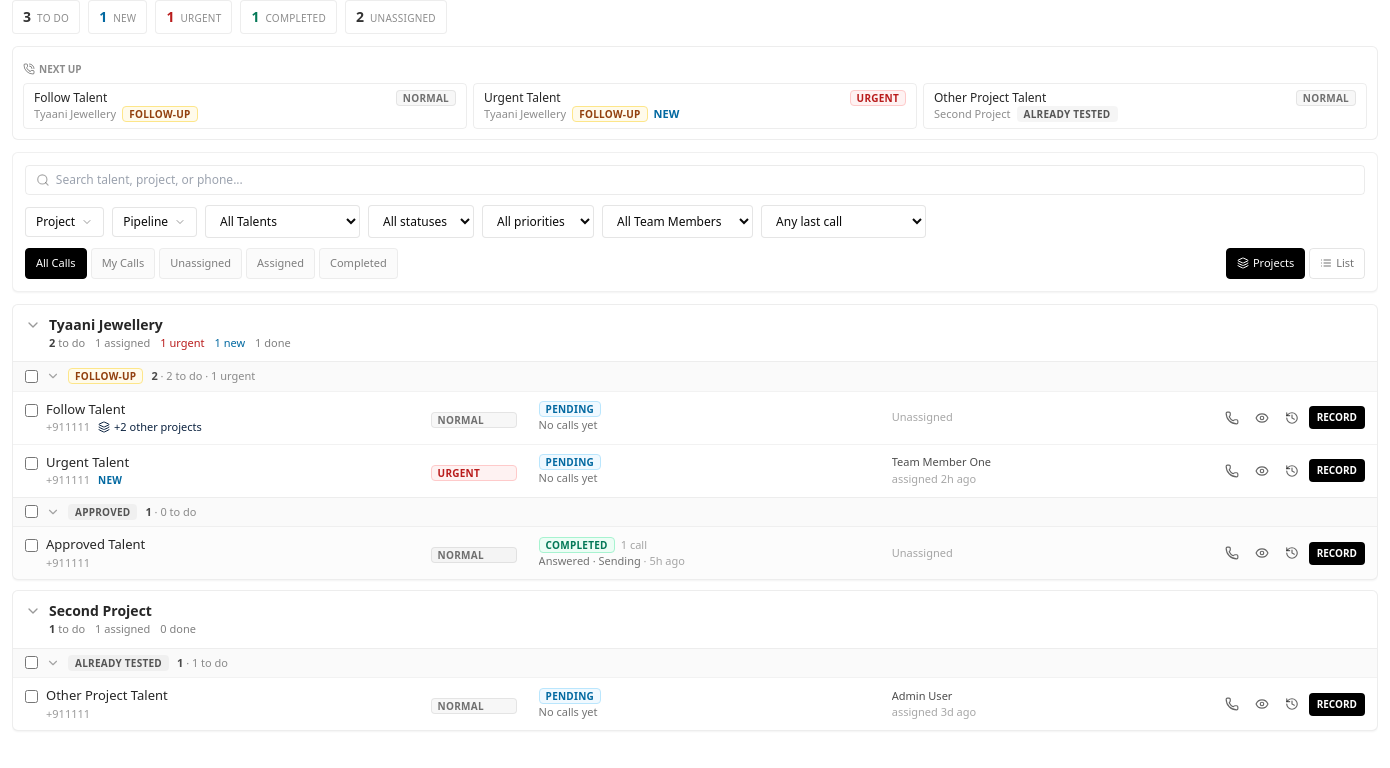
Test: Calls — filters, search, pagination and states › sends every filter to the server and combines them
Check: the element with test id "calls-grouped" is shown, box [12,304,1378,731]
Select "Urgent" in the dropdown named "Filter by priority". click: (538, 222)
box: [482,205,594,238]
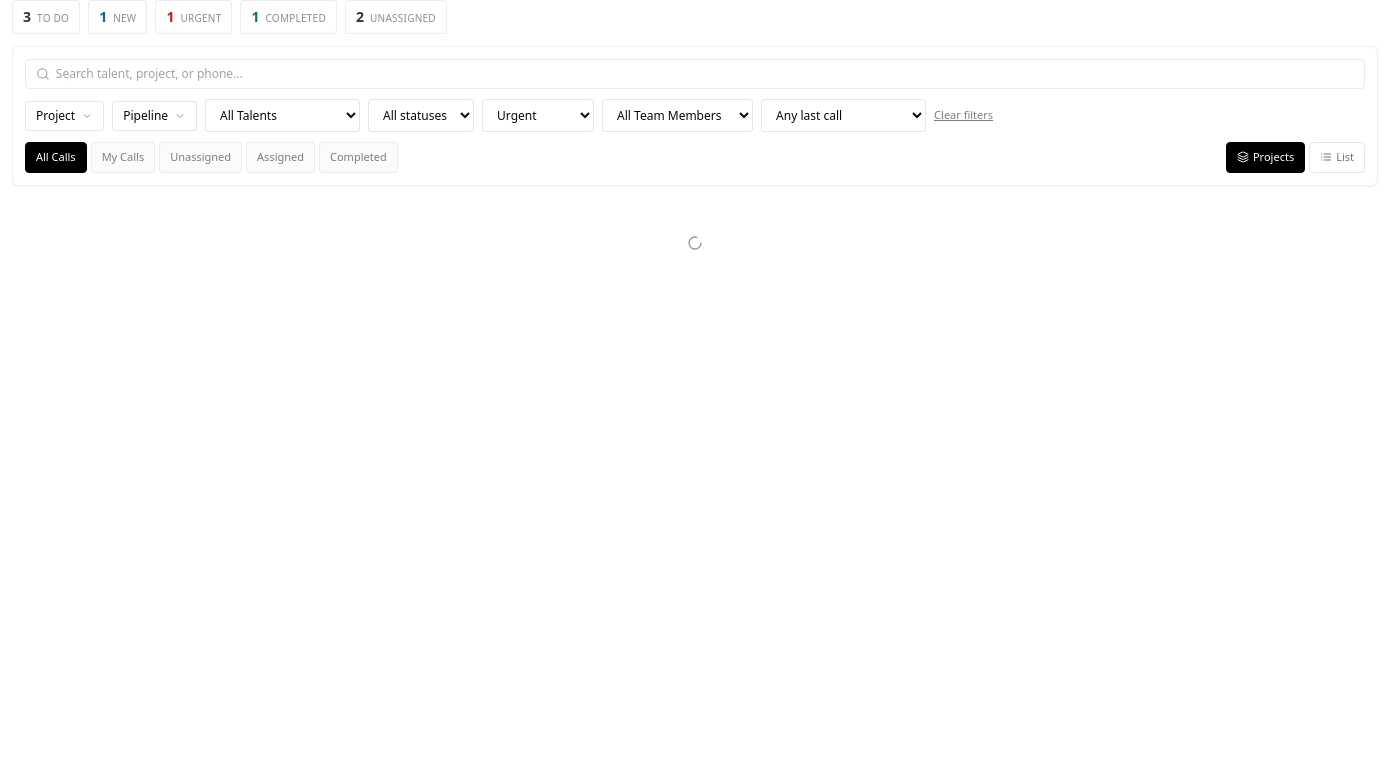
Select "Pending" in the dropdown named "Call status". click: (421, 116)
box: [368,99,474,132]
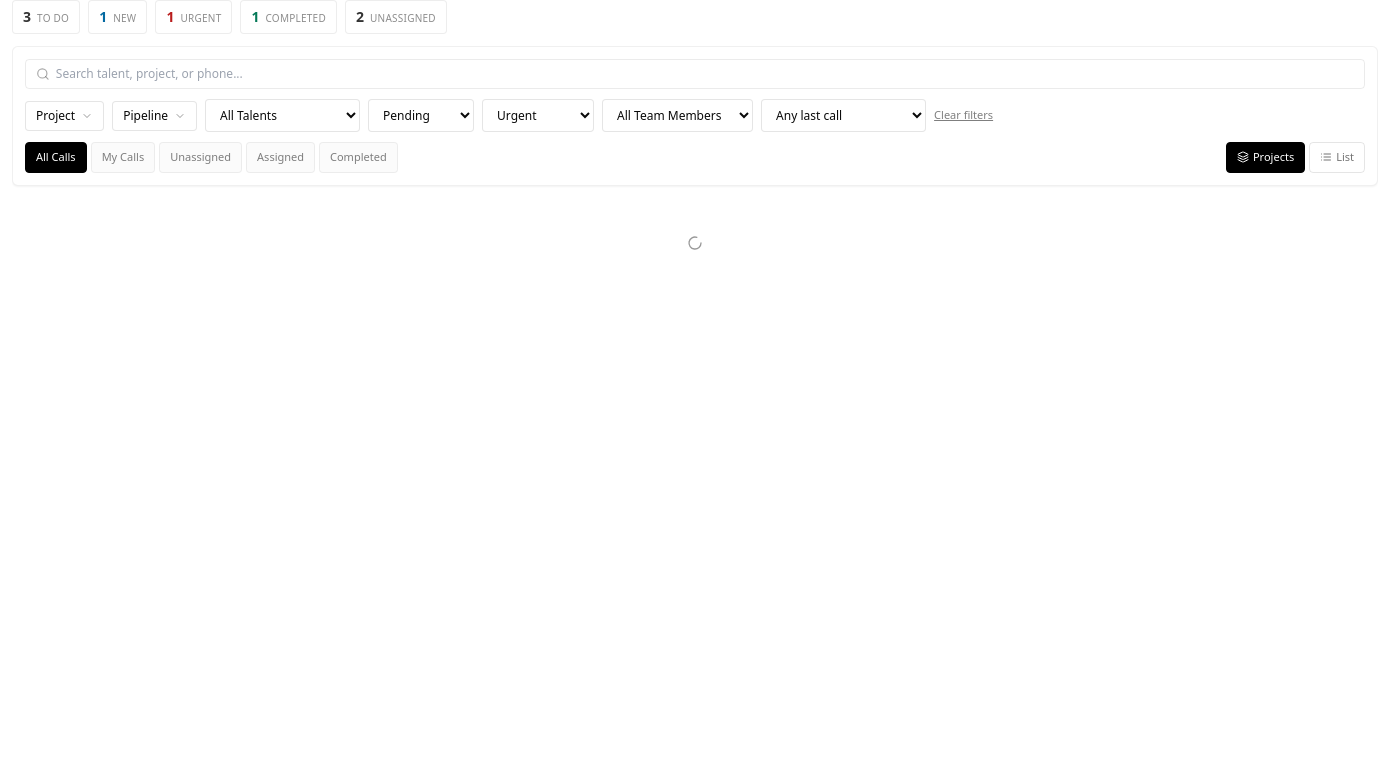
Select "Team Member One" in the dropdown named "Assigned to". click: (678, 116)
box: [602,99,753,132]
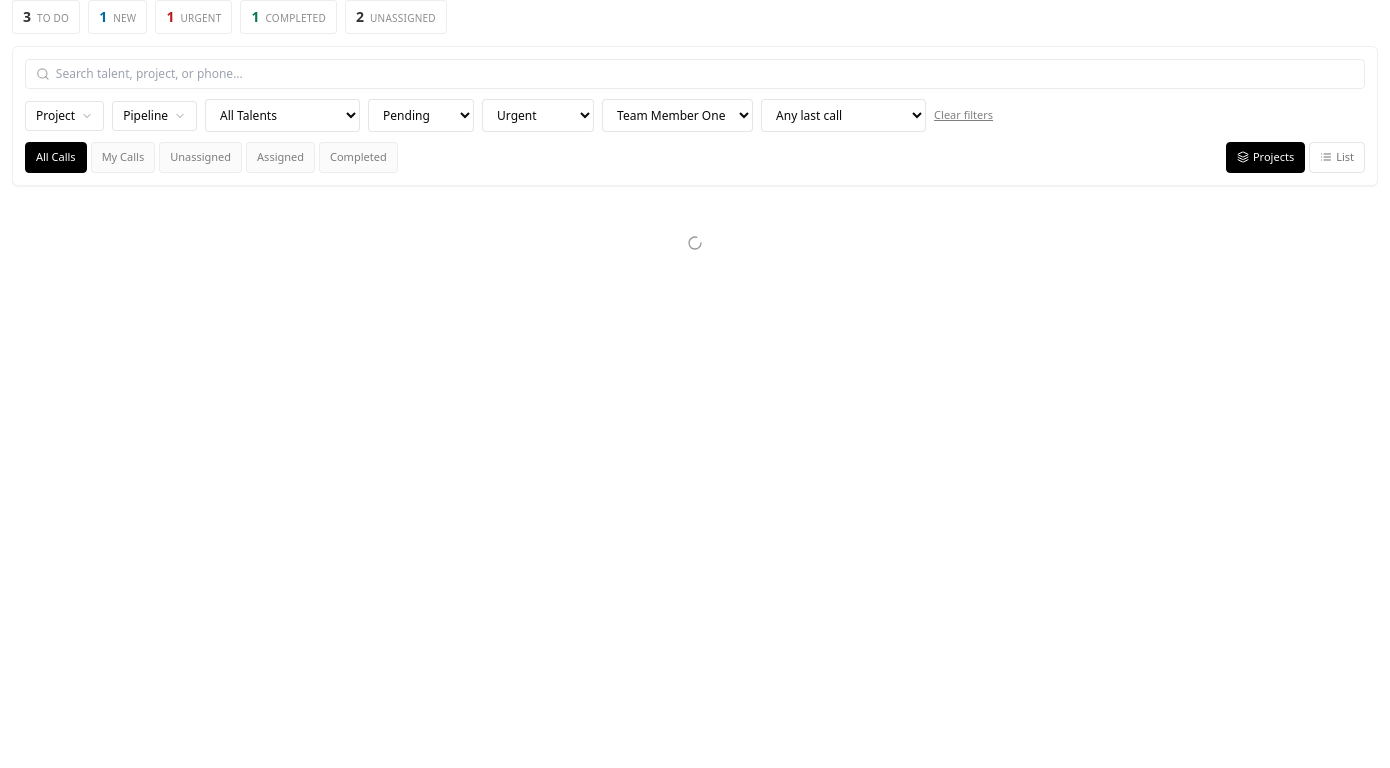
Type "urgent" into the field with test id "calls-search". click: (705, 74)
box: [56,66,1354,82]
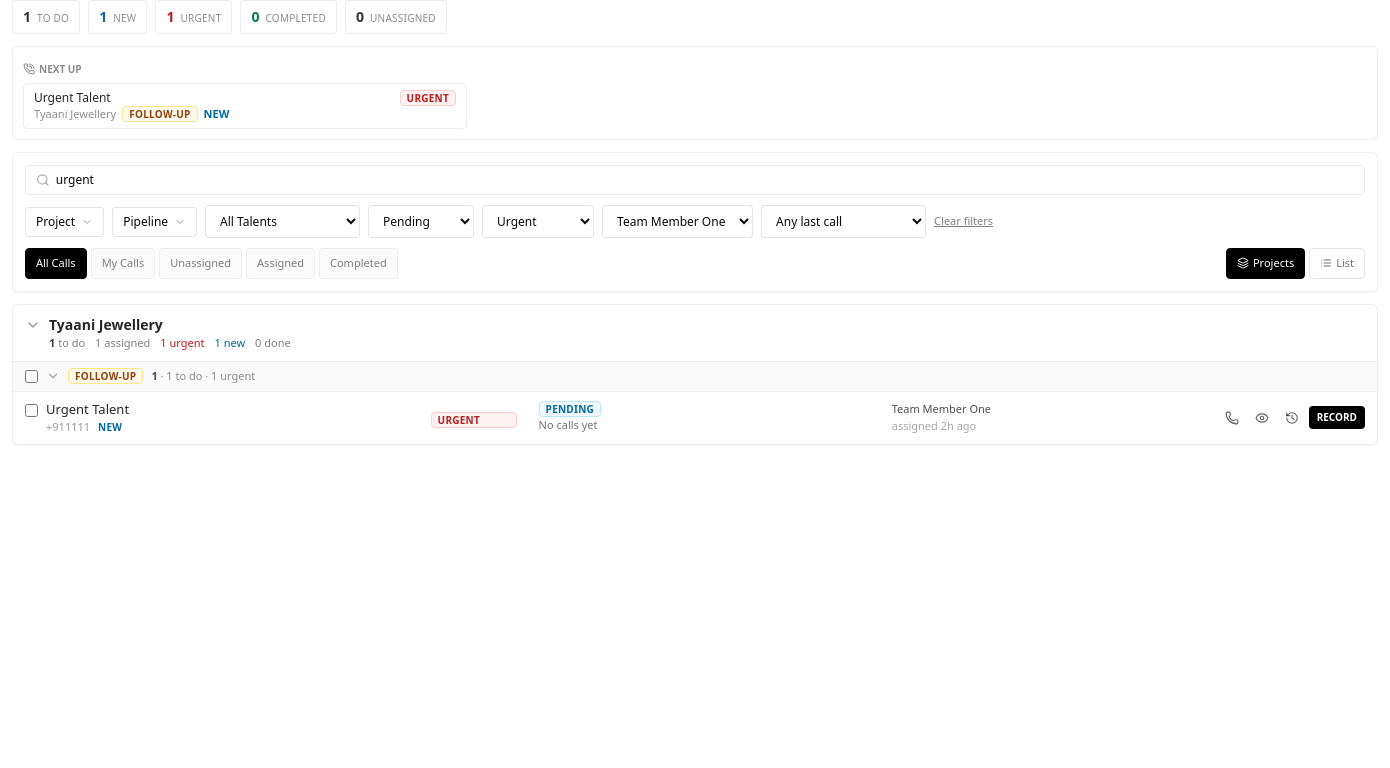
Check: the button "Follow Talent" is not shown
Check: the button "Urgent Talent" is shown, box [46,400,129,419]
Click the button with test id "calls-clear". click: (964, 222)
box: [934,213,993,230]
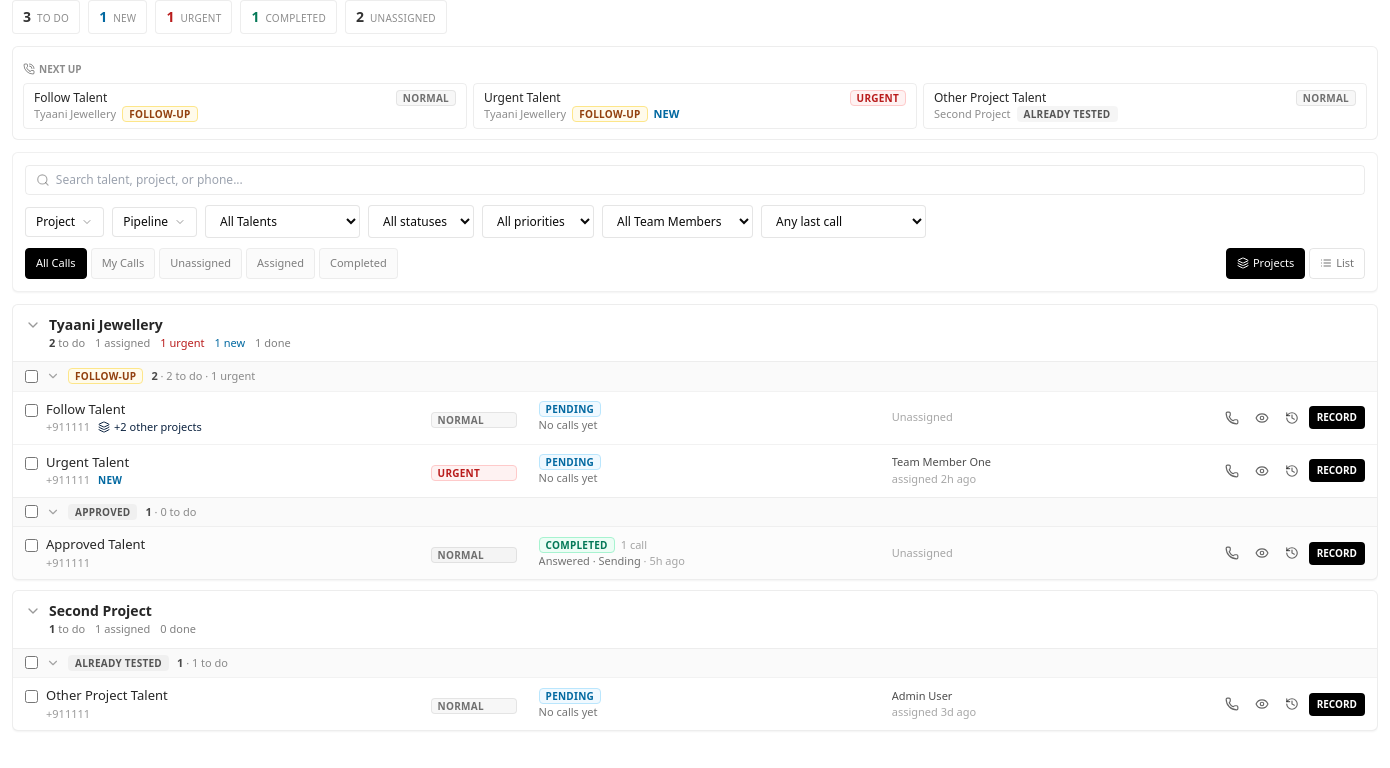
Check: the button "Follow Talent" is shown, box [46,400,125,419]
